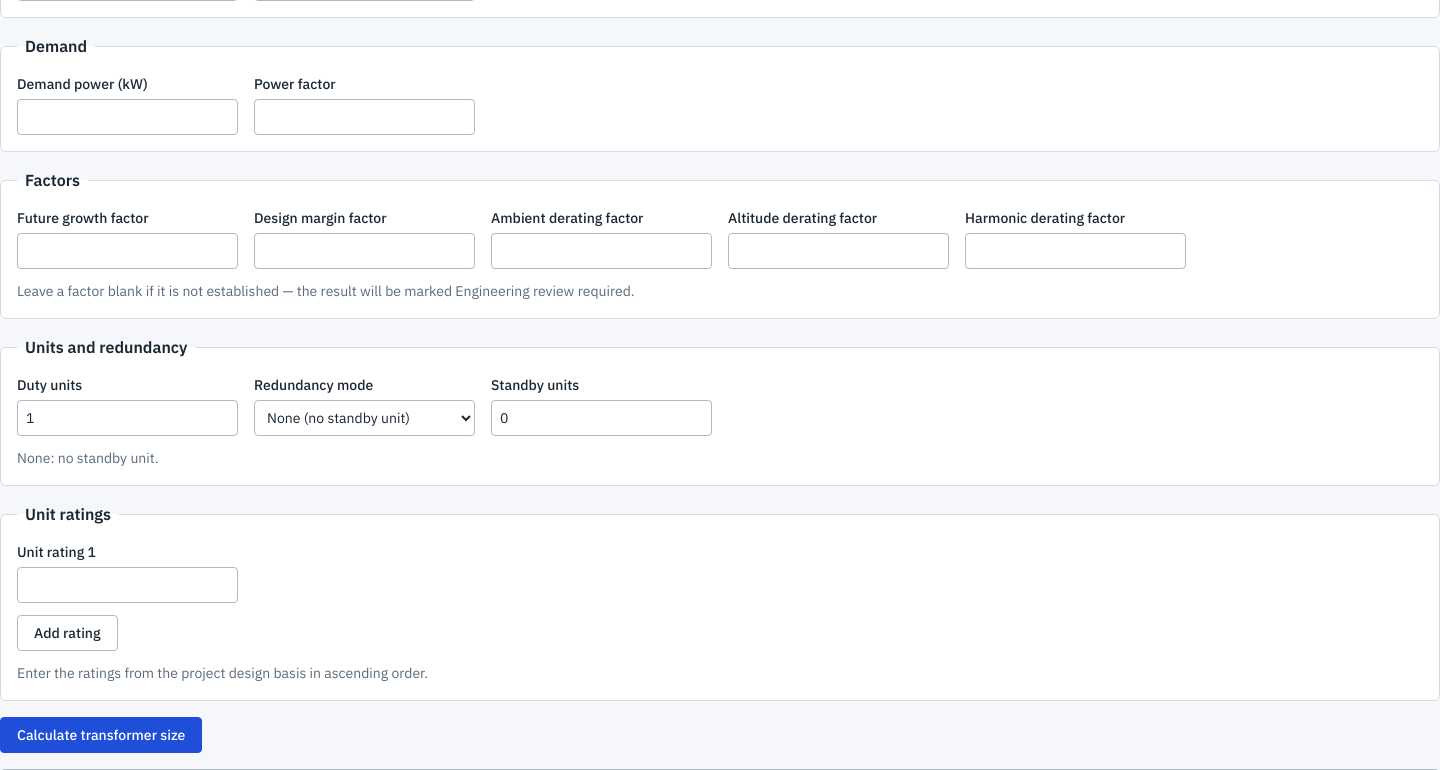
Test: TransformerStudyForm › names the missing study field and calculates nothing
The width and height of the screenshot is (1440, 770).
(page scrolled)
Click the button "Calculate transformer size" at coordinates (101, 735), box left=0, top=717, right=202, bottom=753
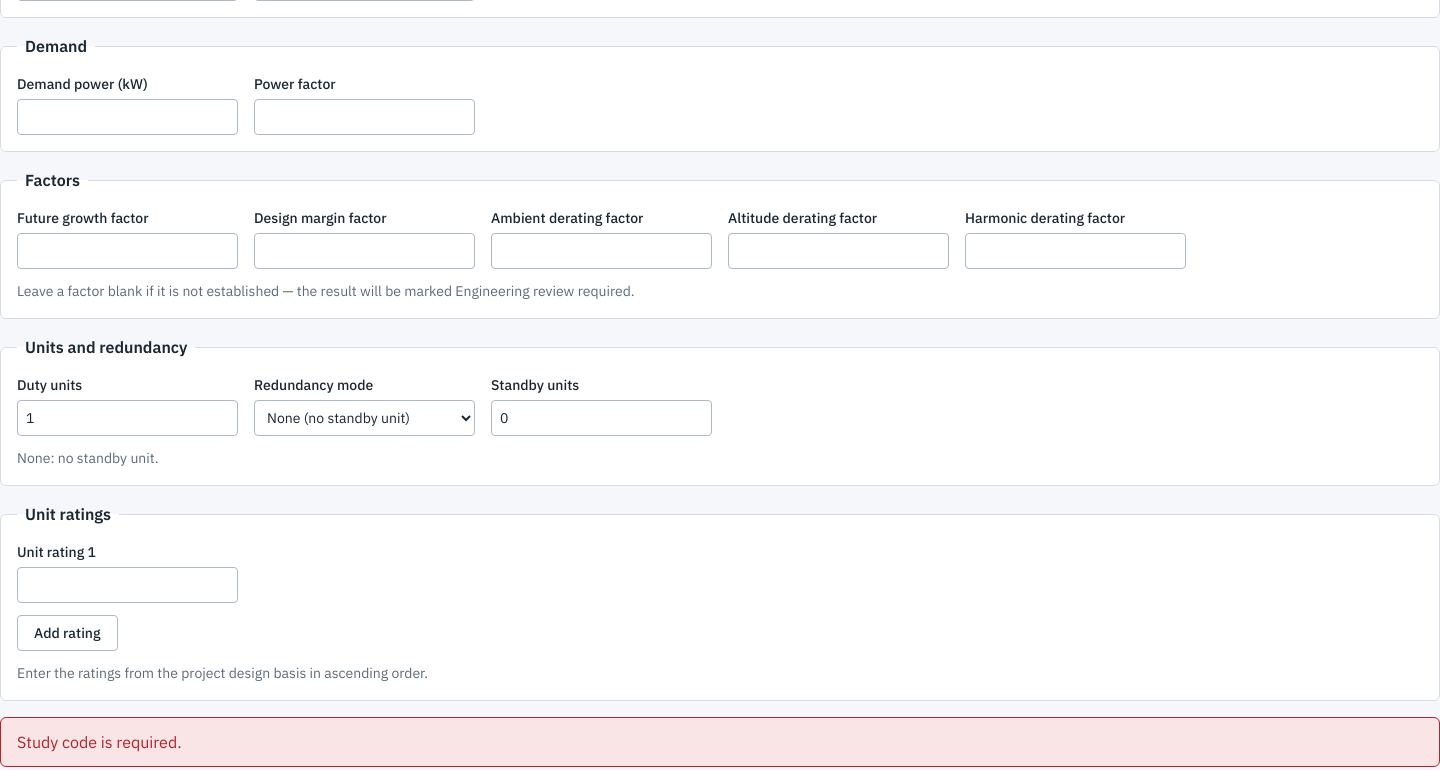
Expected: the message reads "Study code is required.", left=17, top=732, right=182, bottom=752
